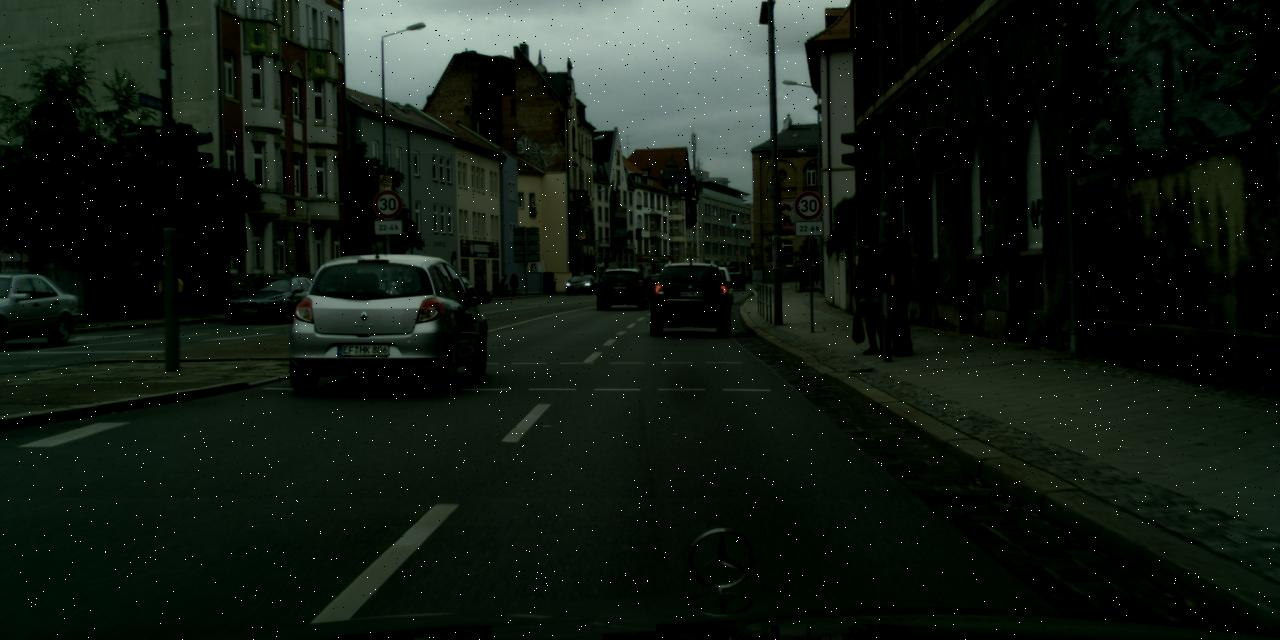ped: (871, 219, 926, 355), (851, 237, 898, 352), (508, 273, 518, 296), (500, 274, 508, 295)
